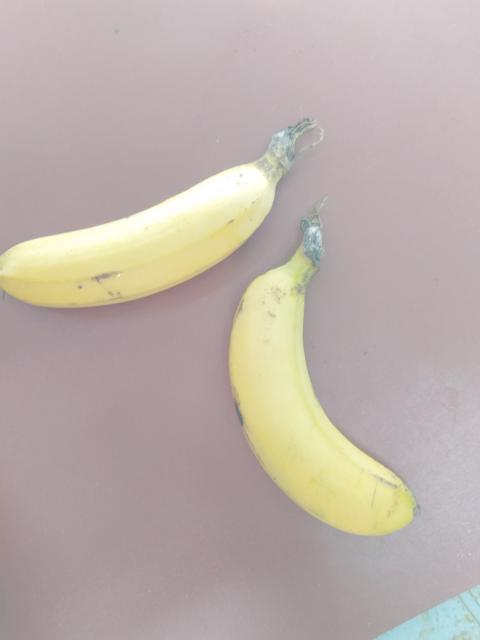freshripe: (222, 254, 421, 551), (0, 171, 274, 329)
